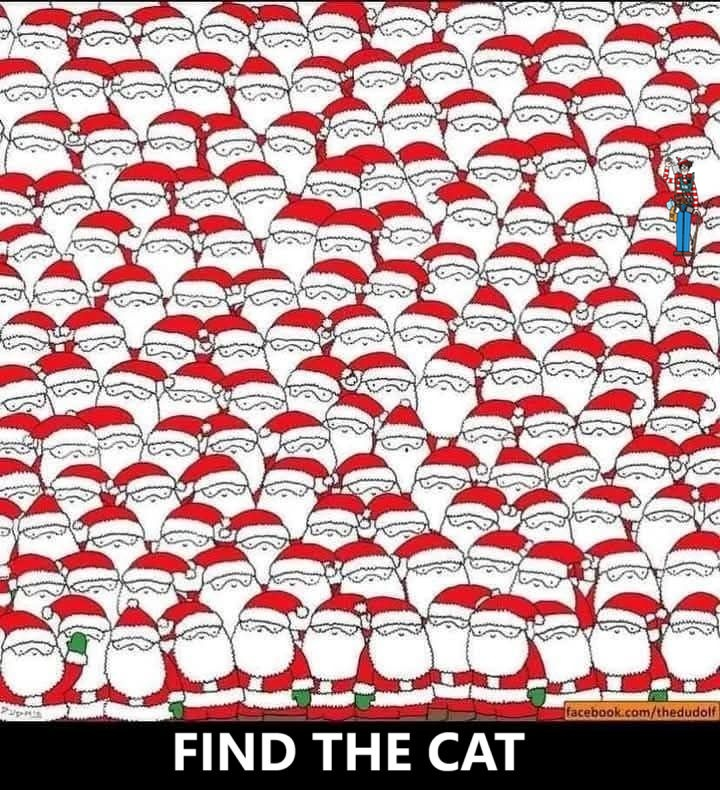waldo: (663, 157, 701, 257)
